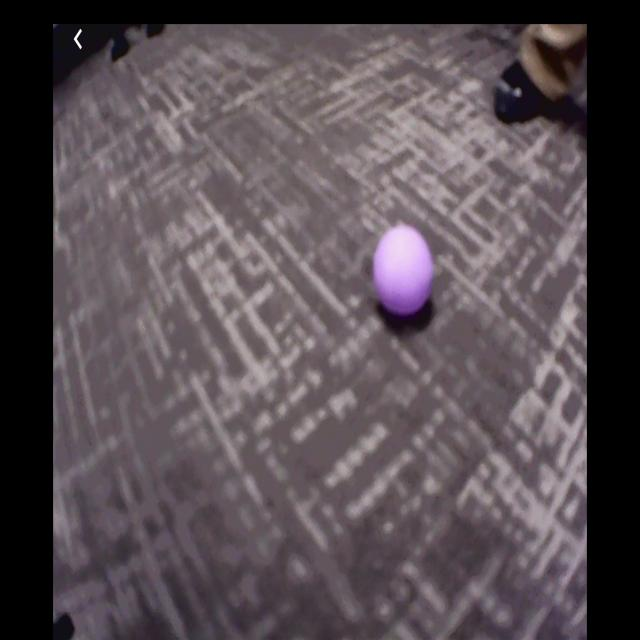ball: (375, 228, 432, 315)
